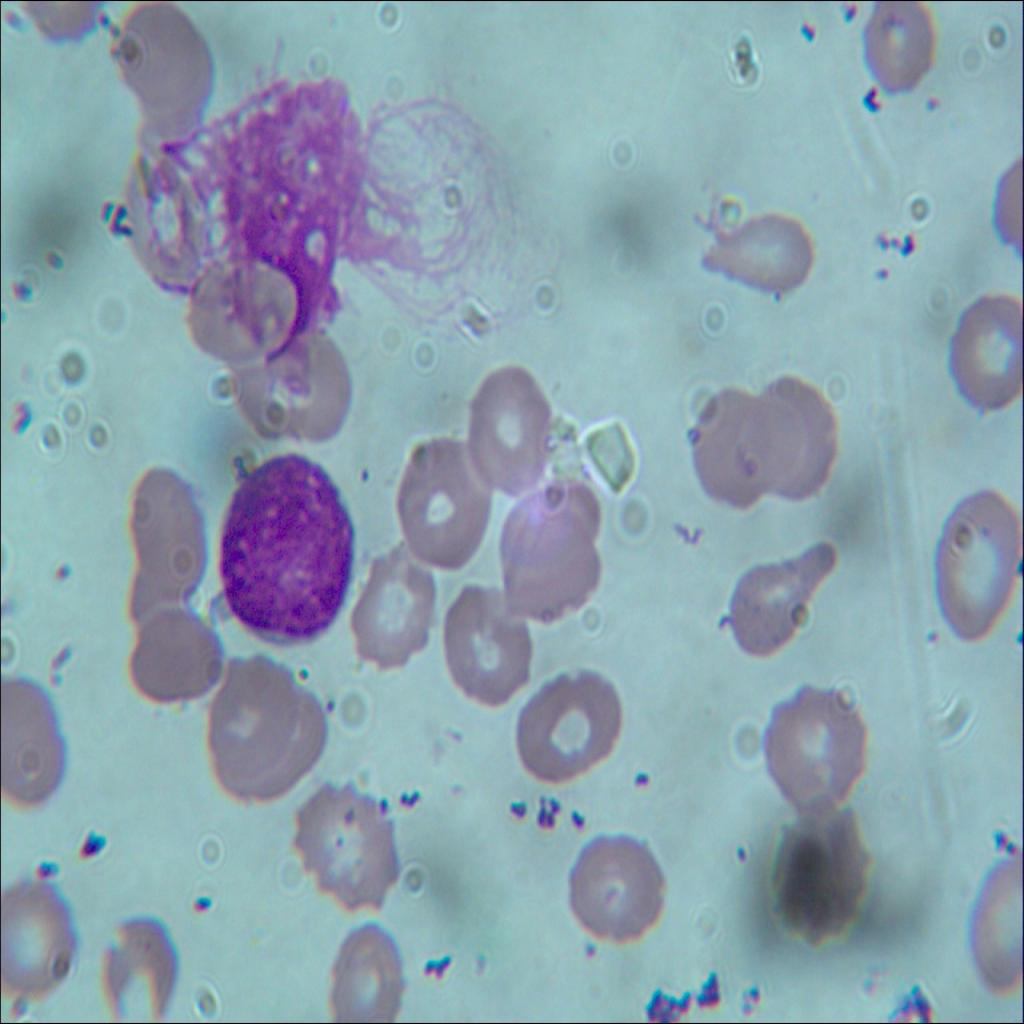Eritrosit: (230, 324, 364, 450), (768, 797, 881, 945), (923, 491, 1023, 642), (432, 568, 534, 712), (119, 138, 213, 292), (395, 435, 498, 572), (502, 479, 600, 622), (294, 778, 398, 912), (512, 664, 622, 787), (114, 8, 218, 138), (186, 254, 300, 371), (718, 542, 830, 661), (556, 821, 669, 938), (761, 681, 869, 802), (463, 358, 555, 500), (686, 388, 786, 508), (226, 685, 326, 805), (196, 642, 290, 768), (126, 602, 229, 710), (348, 548, 433, 678), (713, 205, 815, 310), (111, 461, 204, 575), (758, 372, 838, 502), (0, 878, 78, 1008), (941, 284, 1023, 405), (98, 915, 186, 1023), (853, 0, 941, 103), (318, 924, 409, 1023), (113, 548, 199, 652), (0, 674, 71, 791)
Limfoblast: (220, 462, 358, 648)
Platelet: (349, 454, 378, 502), (726, 840, 758, 872), (46, 555, 66, 598), (318, 684, 338, 714)
